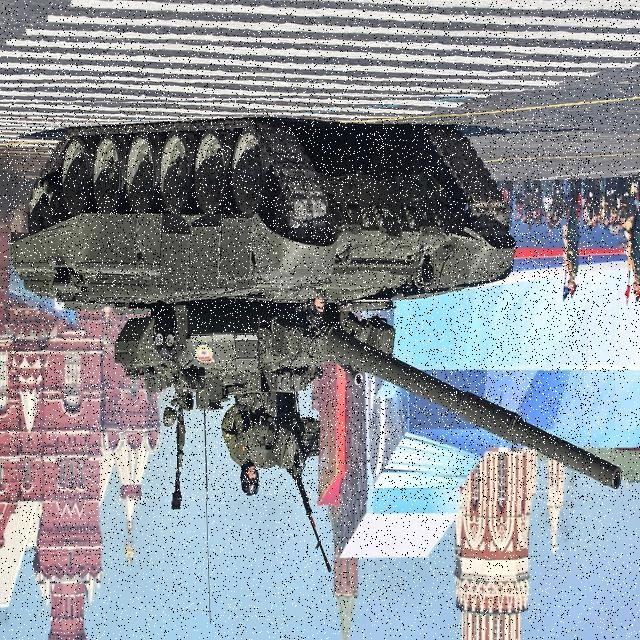MIL_MBT: (7, 117, 593, 501)
